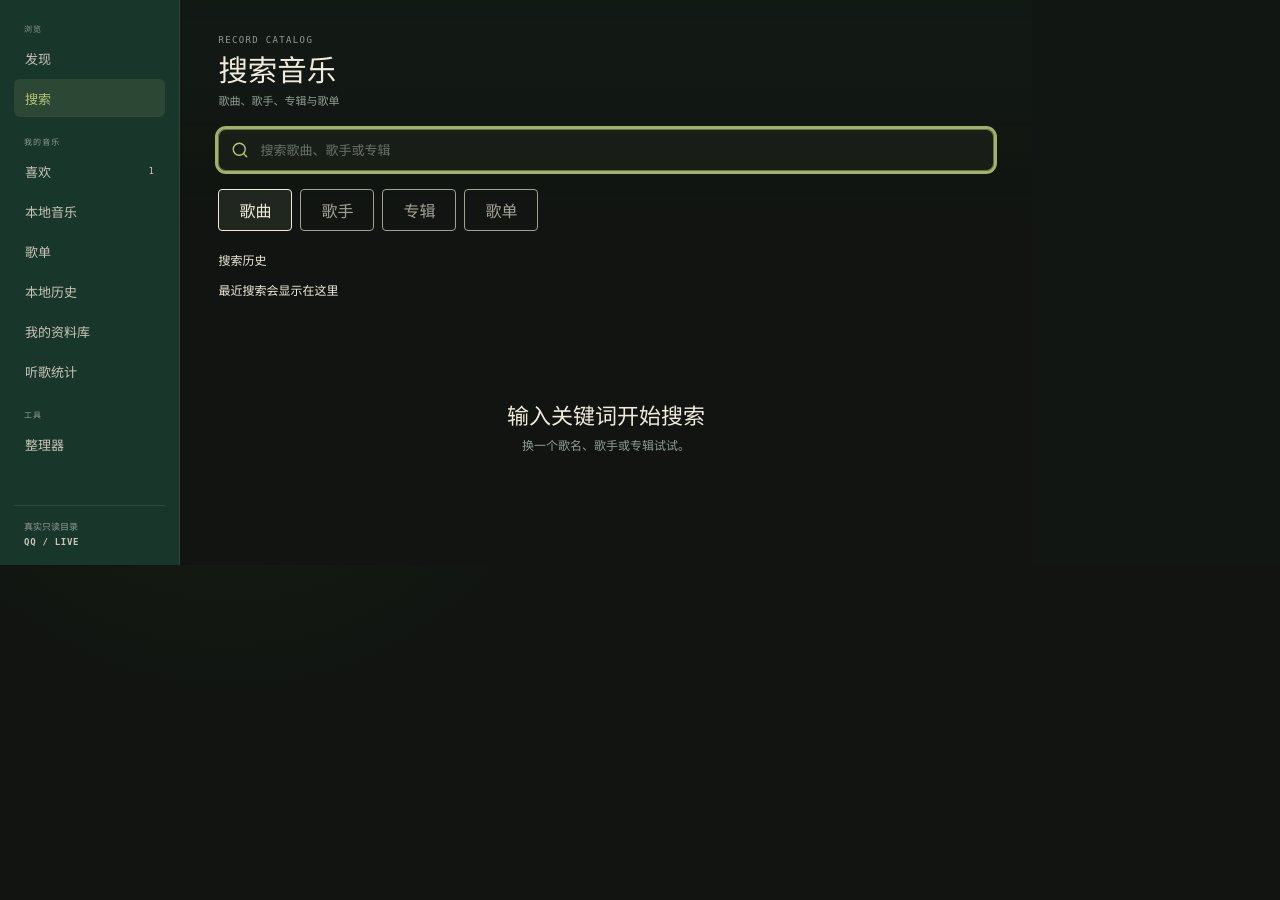
Test: live catalog workspace › 搜索去抖后只保留新 generation，并可加入后交给原生播放器
The image size is (1280, 900).
Step 1. Type "晴天" into the dropdown → (615, 150), box [258, 130, 972, 170]
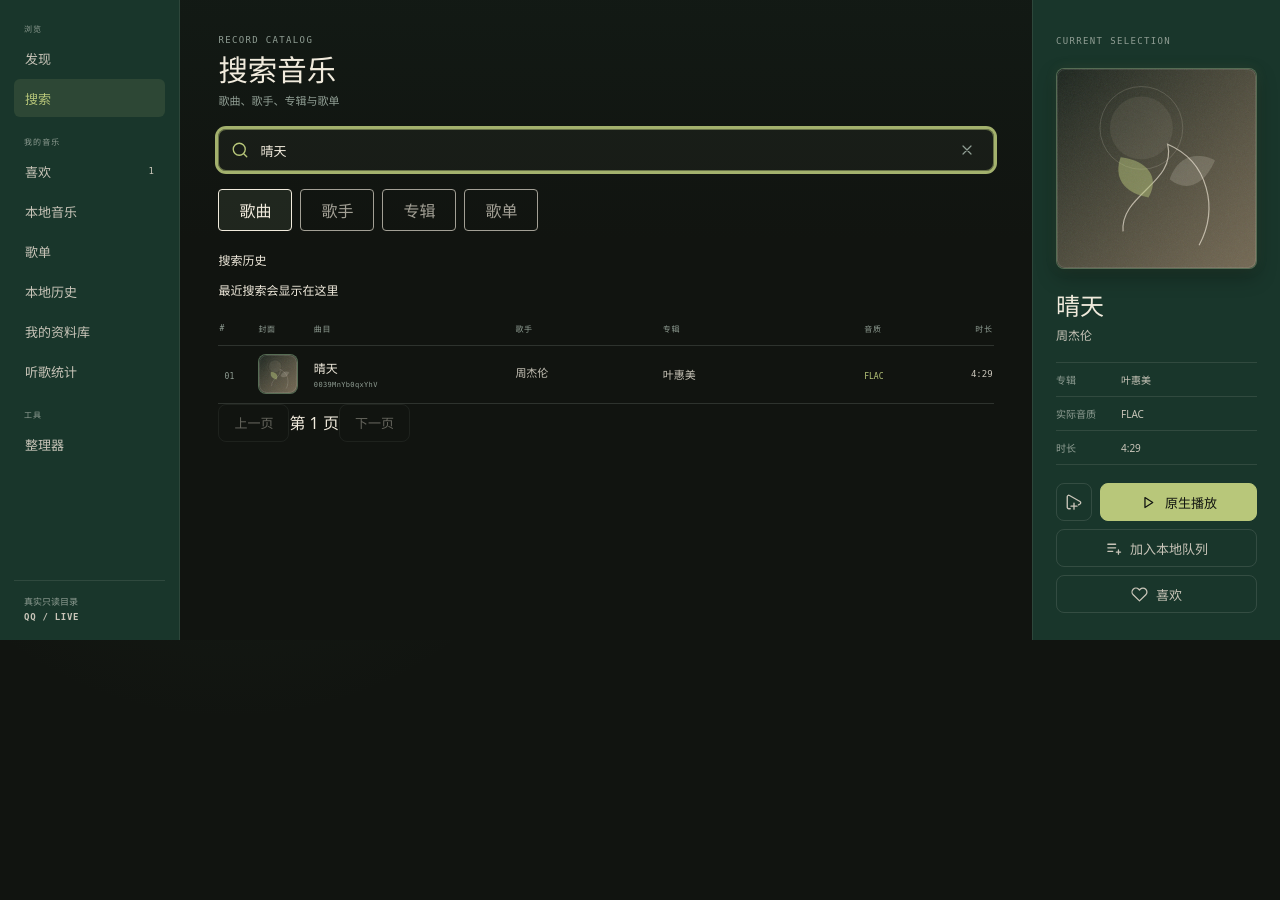
Expected: the text "晴天" is shown, [314, 360, 338, 377]
Step 2. Click the button "原生播放" → (1178, 502), box [1100, 483, 1257, 521]
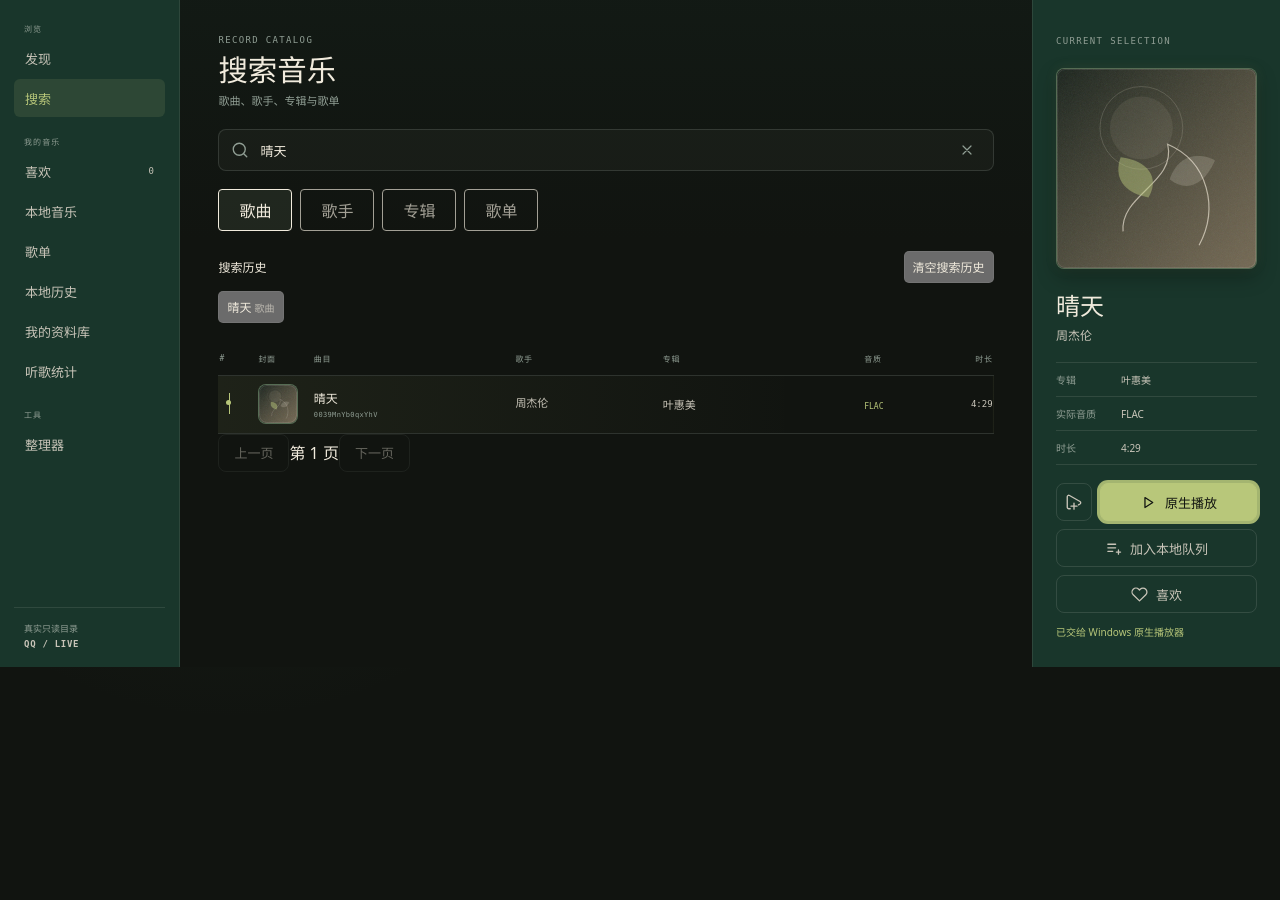
Expected: the text "已交给 Windows 原生播放器" is shown, [1056, 625, 1184, 639]
